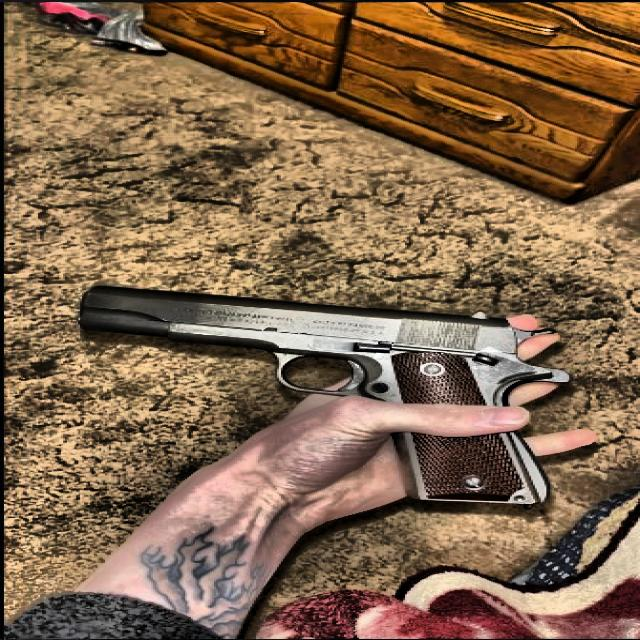Colt m1911: (75, 283, 571, 507)
